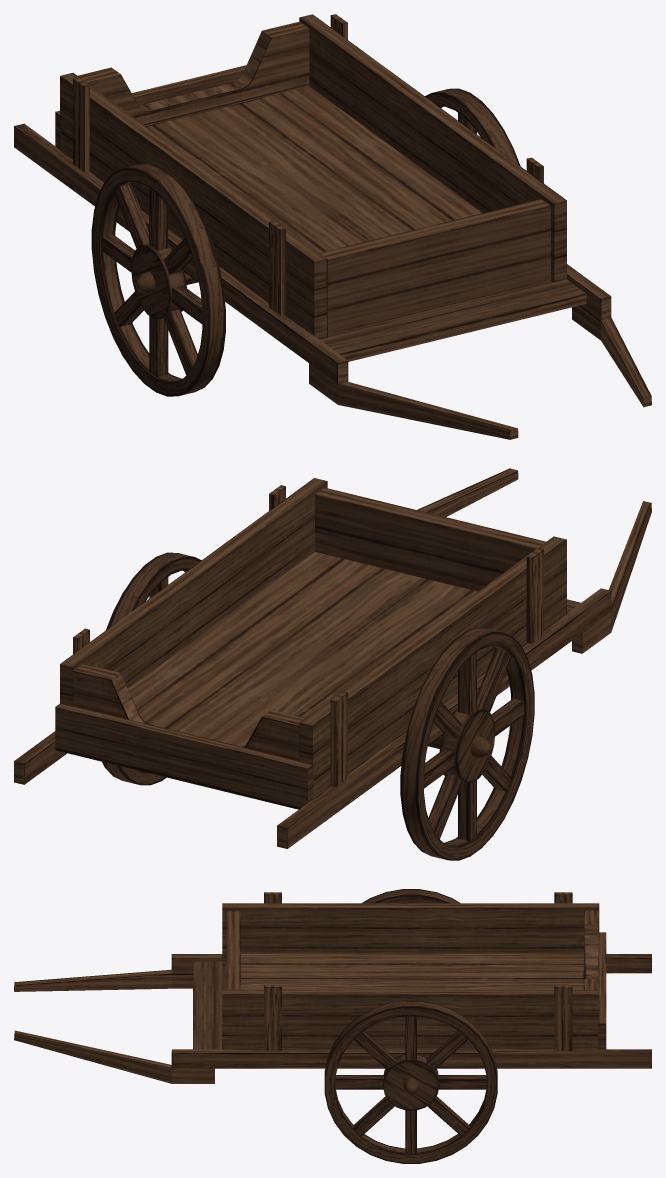
File: wagon.fbx
3 renders of one model, top to bottom at view 1: azimuth 30°, elevation 25°; view 2: azimuth 150°, elevation 25°; view 3: azimuth 270°, elevation 25°, orthographic. The views are drawn at different scales.
Parts seen in each view (by area): view 1: mache, polySurface23, polySurface21; view 2: mache, polySurface23, polySurface21; view 3: mache, polySurface21, polySurface23.
Part boxes in pixels (x1=…): mache: x1=14, y1=14, x2=651, y2=439; polySurface23: x1=91, y1=164, x2=225, y2=396; polySurface21: x1=425, y1=88, x2=520, y2=165; mache: x1=14, y1=468, x2=651, y2=848; polySurface23: x1=400, y1=628, x2=534, y2=860; polySurface21: x1=102, y1=552, x2=201, y2=785; mache: x1=14, y1=892, x2=651, y2=1083; polySurface21: x1=324, y1=1000, x2=497, y2=1163; polySurface23: x1=362, y1=889, x2=460, y2=903.
Bounding box in the file's own units: 155 × 93.43 × 327.
